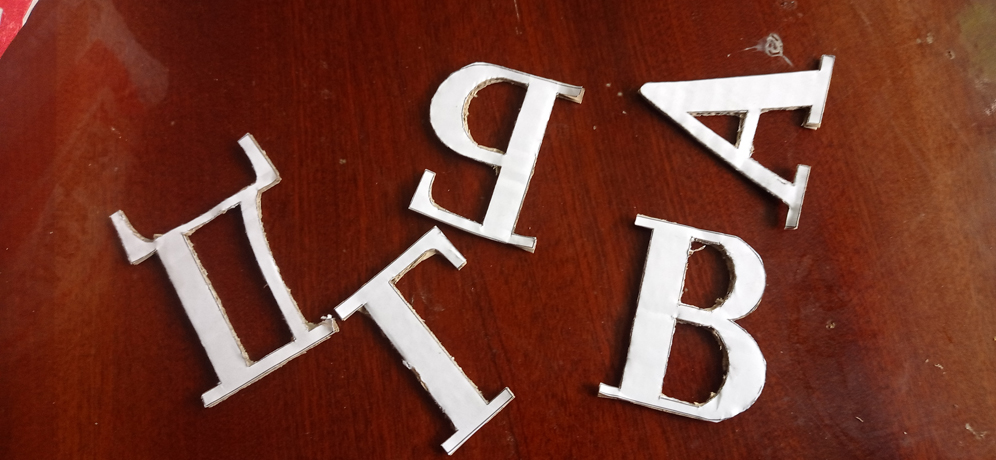a: (639, 55, 837, 231)
b: (409, 62, 584, 253)
d: (108, 130, 338, 408)
g: (333, 227, 515, 458)
v: (597, 212, 767, 424)
